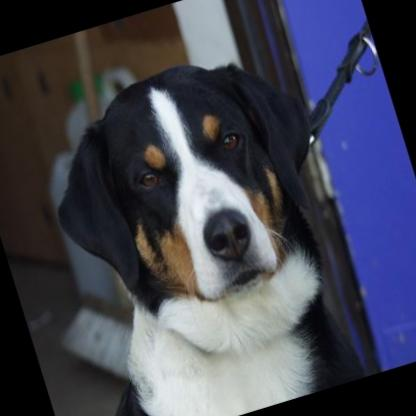Appenzeller: (0, 36, 371, 416)
